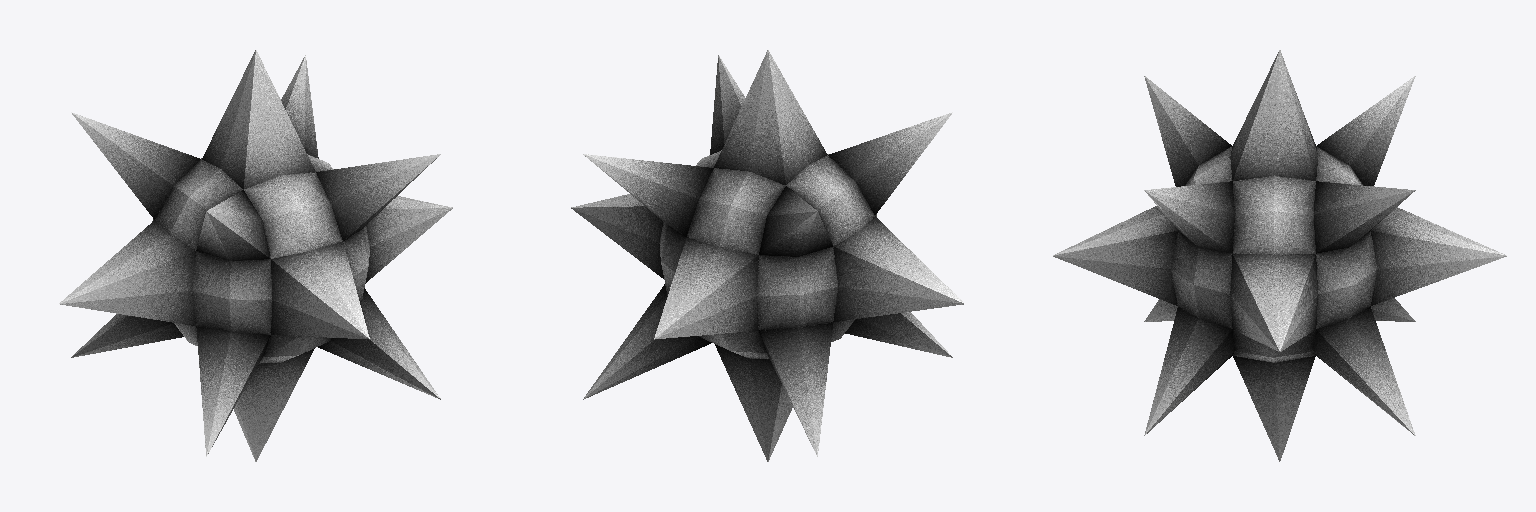
3 views of the same model, side by side, from view 1: azimuth 30°, elevation 25°; view 2: azimuth 150°, elevation 25°; view 3: azimuth 270°, elevation 25° (orthographic).
Parts seen in each view (by area): view 1: Cube; view 2: Cube; view 3: Cube.
Part boxes in pixels (x1,y1,x2,y2): Cube: (59, 50, 452, 461); Cube: (571, 50, 964, 461); Cube: (1053, 50, 1506, 461).
Bounding box in the file's own units: 3.46 × 3.46 × 3.46.
1 materials, 1 textured.